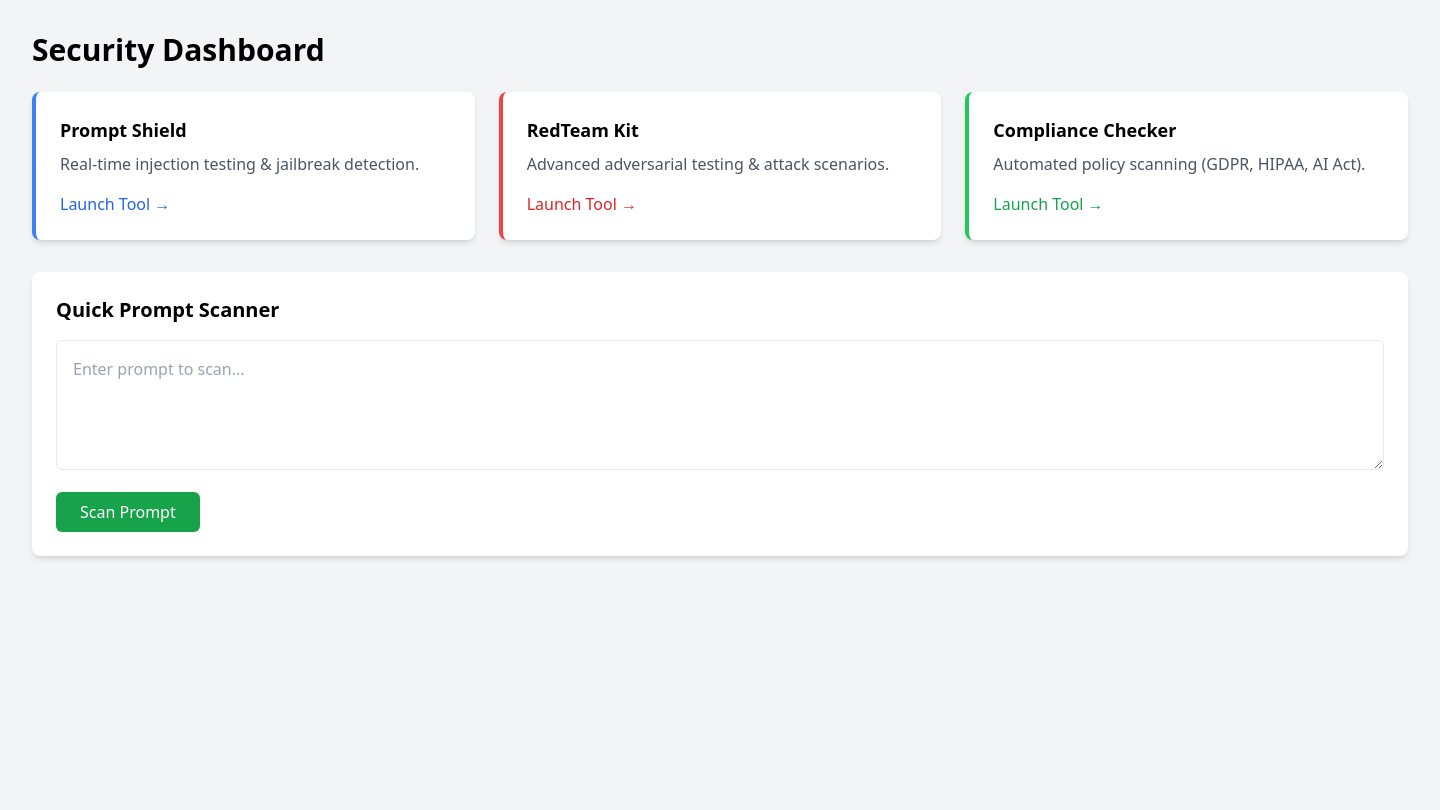
Test: Dashboard › shows UNSAFE result with flags list
This screenshot has width=1440, height=810.
In the text box with placeholder "Enter prompt to scan...": (720, 405) [56,340,1384,470], type "malicious prompt"
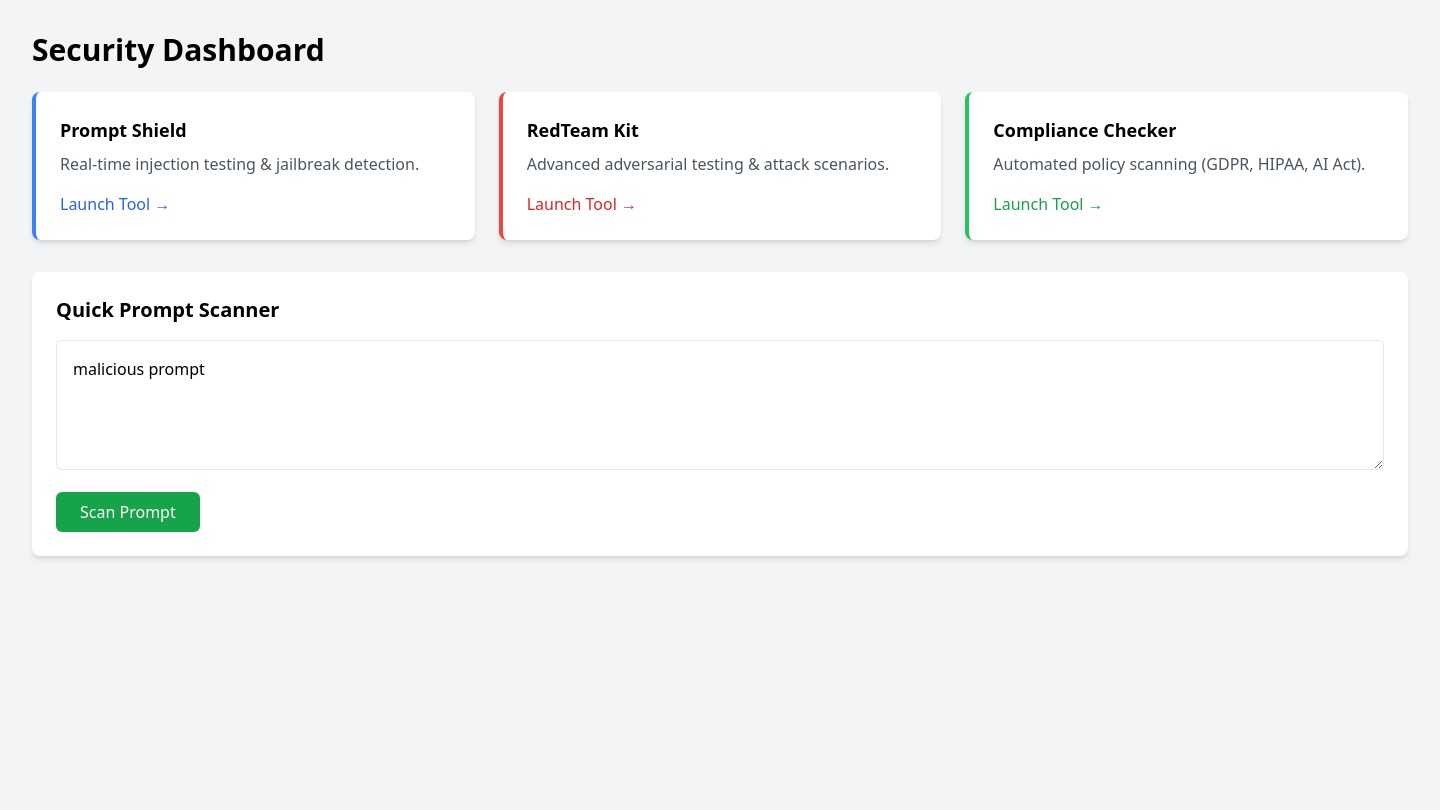
Click the button "Scan Prompt": (128, 512) [56,492,200,532]
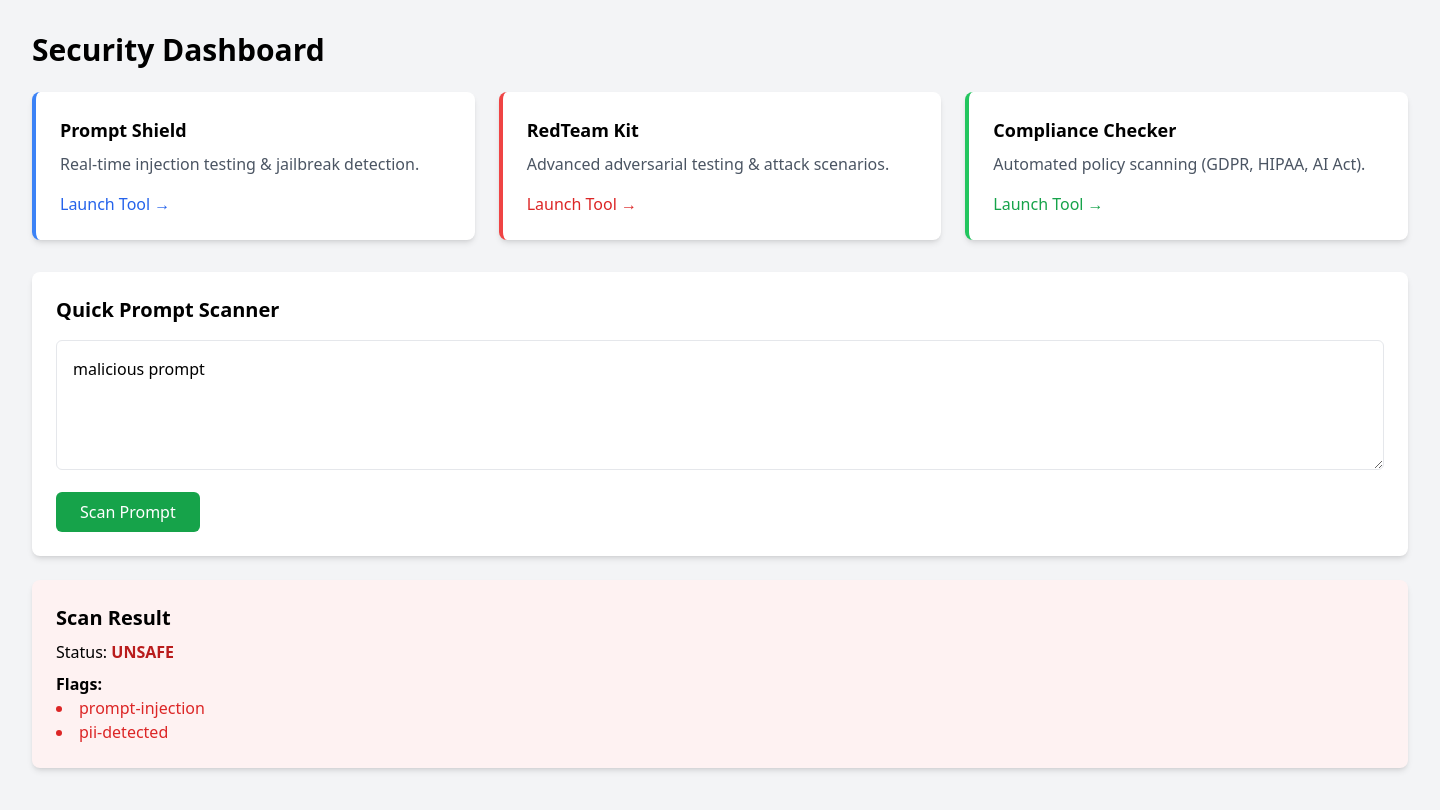
Expected: the text "UNSAFE" is shown, [111,641,174,663]
Expected: the text "Flags:" is shown, [56,673,102,695]
Expected: the list item "prompt-injection" is shown, [79,697,205,719]
